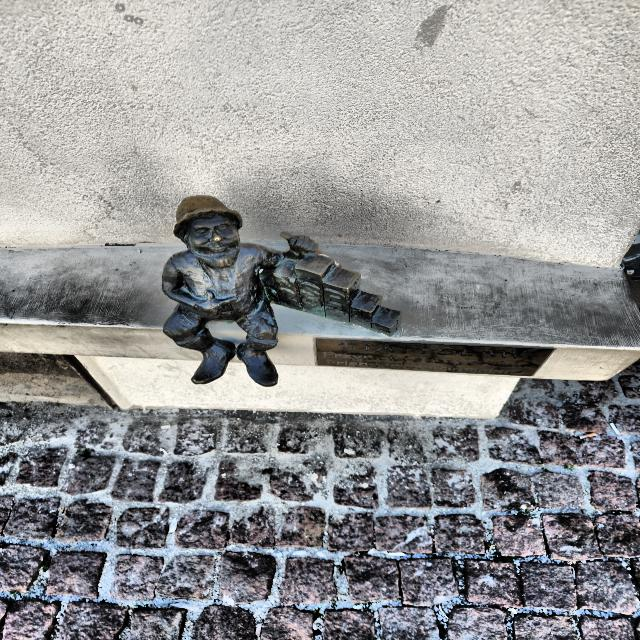Statyslaw: (162, 196, 402, 385)
